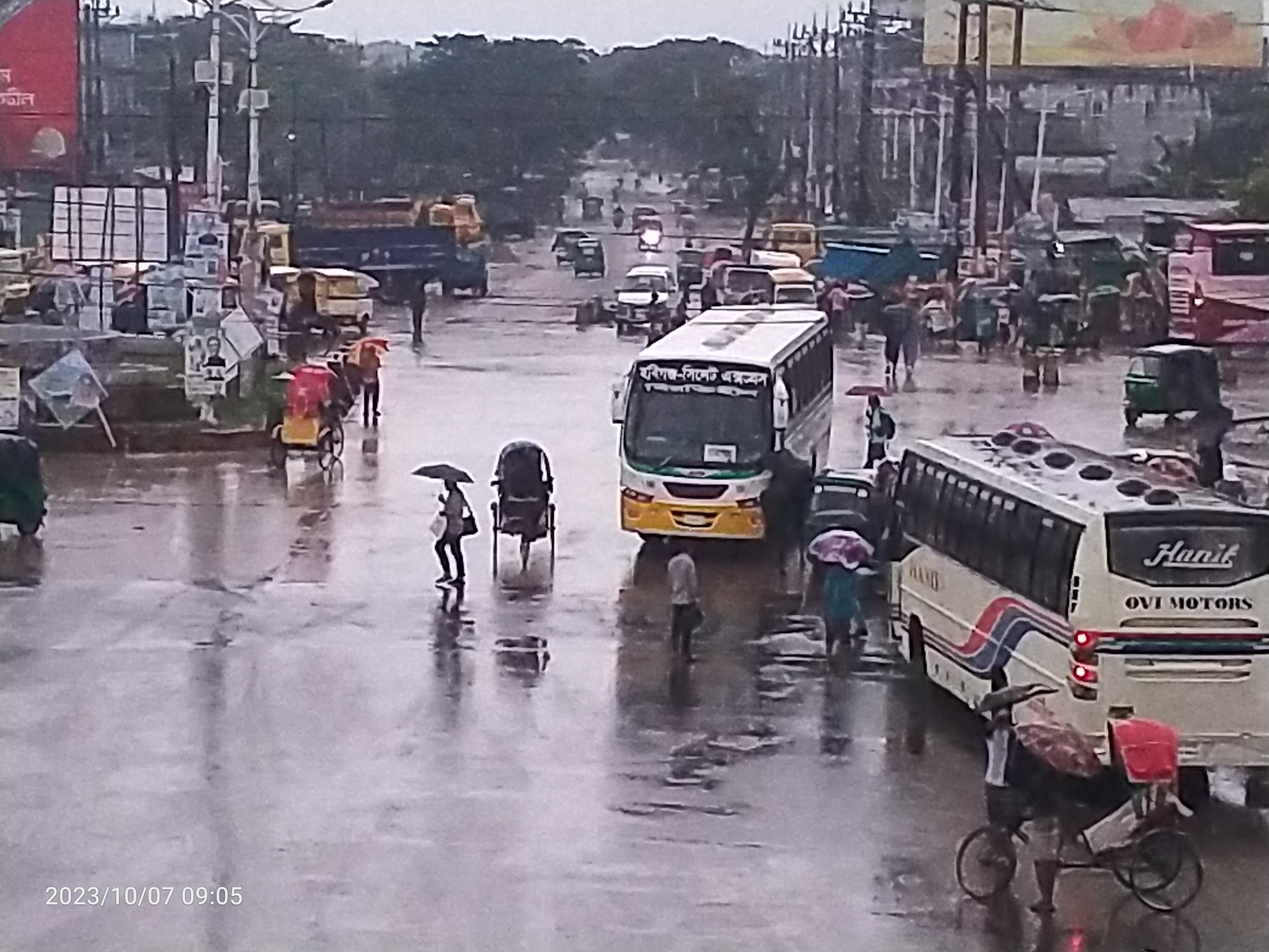Bus: (872, 414, 1269, 829), (592, 293, 849, 583), (1151, 188, 1269, 358)
Car: (947, 696, 1227, 946), (477, 427, 575, 586), (246, 355, 353, 486), (603, 254, 694, 332)
Truck: (236, 201, 461, 301), (299, 166, 491, 249), (754, 207, 971, 278)
